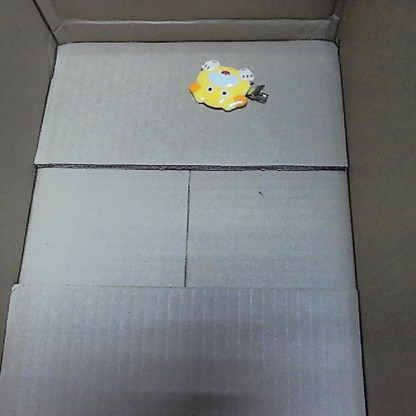dogclip: (185, 54, 271, 113)
